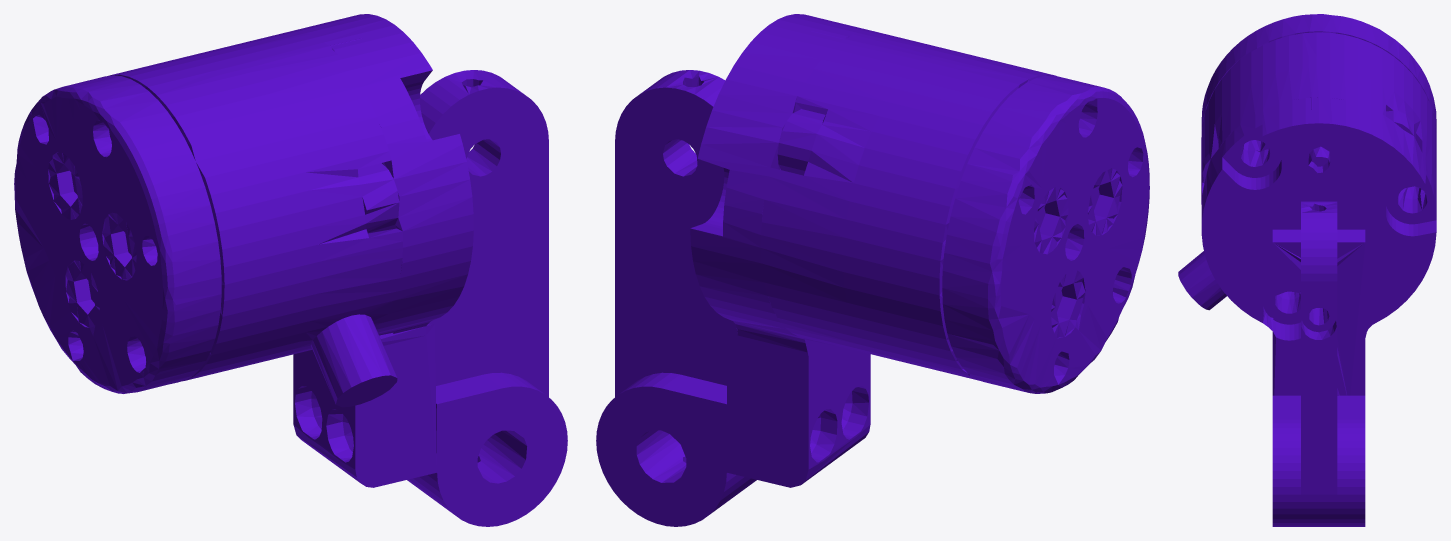
File: Tilt Distal Linkage and Force Sensor.OBJ
3 renders of one model, left to right at view 1: azimuth 30°, elevation 25°; view 2: azimuth 150°, elevation 25°; view 3: azimuth 270°, elevation 25°, orthographic. The views are drawn at different scales.
Parts seen in each view (by area): view 1: /ambf/env/Tilt_Distal_Linkage_and_Force_Sensor_Tilt_Distal_Linka; view 2: /ambf/env/Tilt_Distal_Linkage_and_Force_Sensor_Tilt_Distal_Linka; view 3: /ambf/env/Tilt_Distal_Linkage_and_Force_Sensor_Tilt_Distal_Linka.
Boxes of the visible parts, x1,y1,x2,y2 form: /ambf/env/Tilt_Distal_Linkage_and_Force_Sensor_Tilt_Distal_Linka: (14, 14, 567, 526); /ambf/env/Tilt_Distal_Linkage_and_Force_Sensor_Tilt_Distal_Linka: (596, 14, 1149, 526); /ambf/env/Tilt_Distal_Linkage_and_Force_Sensor_Tilt_Distal_Linka: (1178, 14, 1436, 526).
Size of the model in its own units: 0.0411 by 0.0435 by 0.0275.
